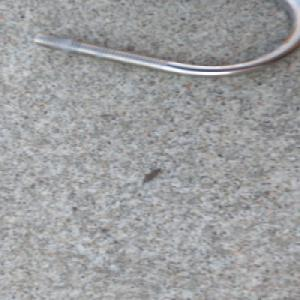ClampPart: (32, 0, 300, 79)
